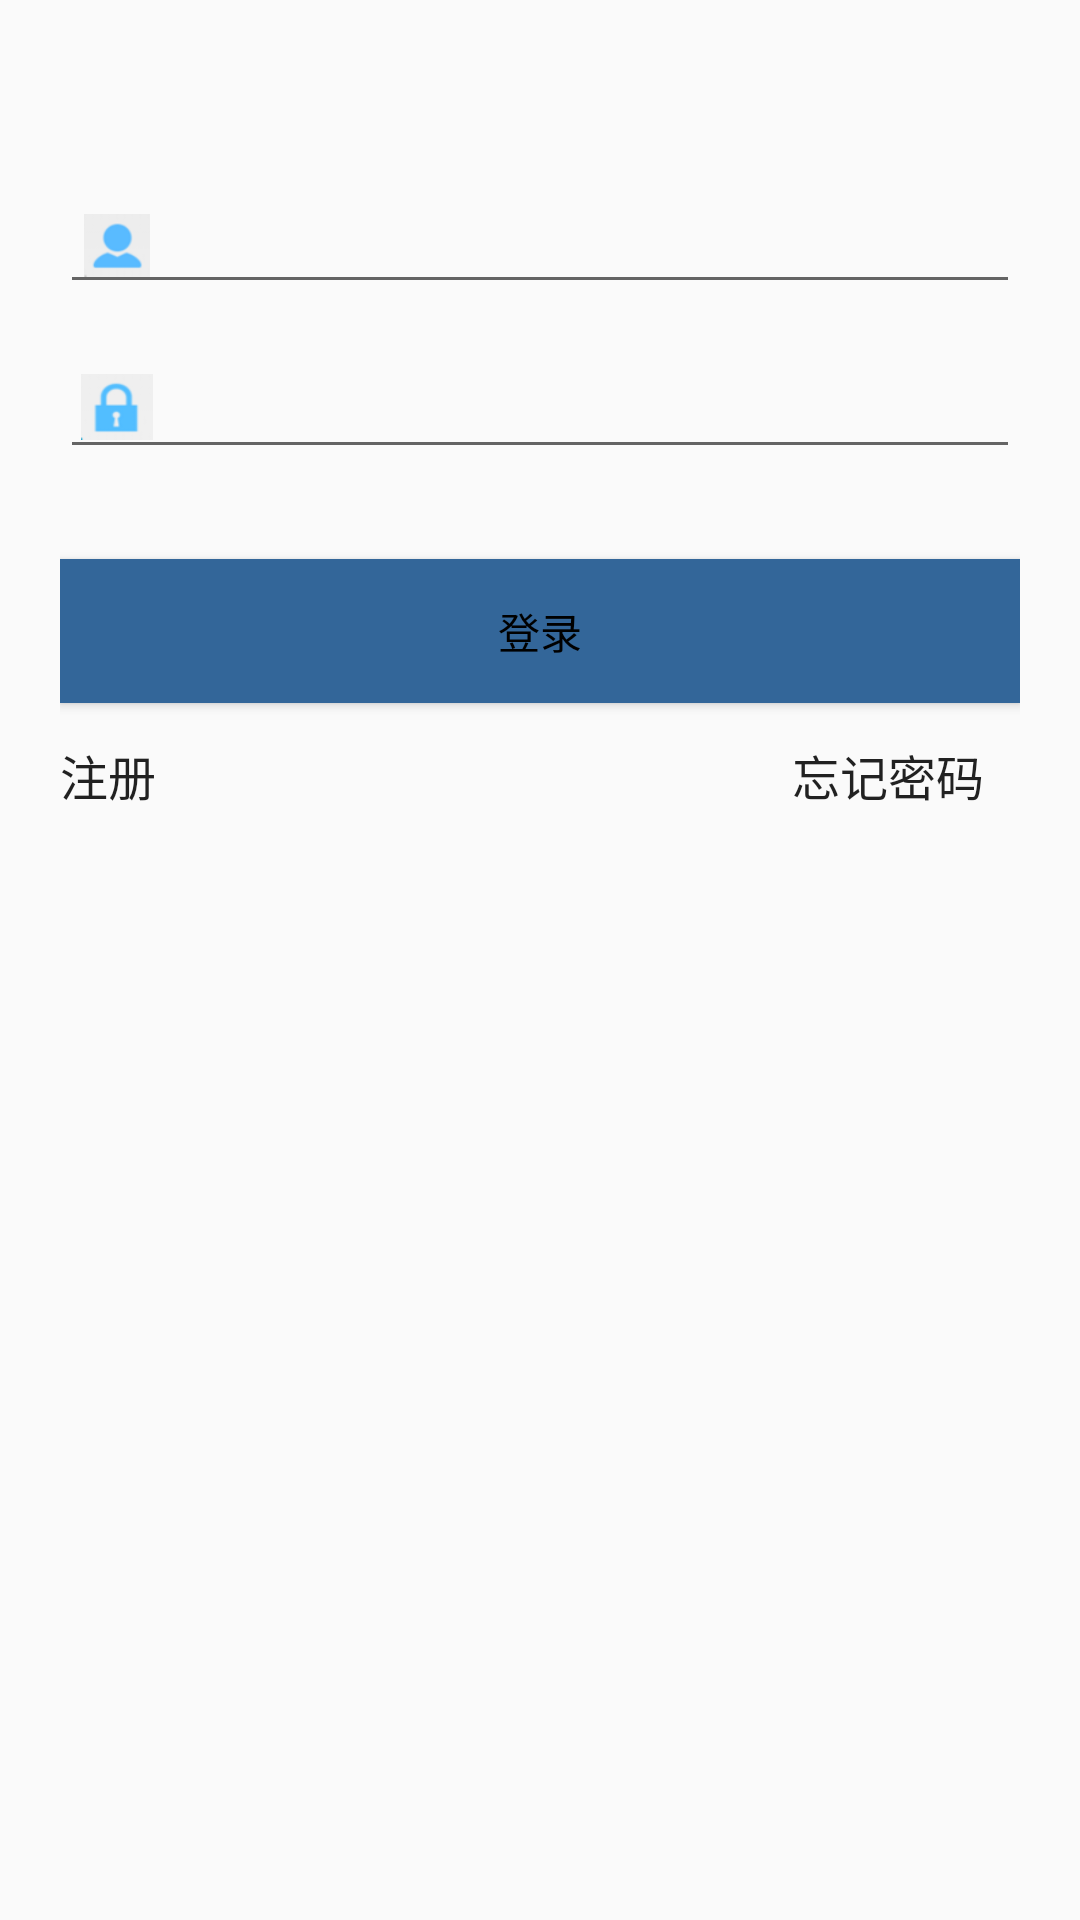

Icons on this 1080x1920 Android screen, each with the point to tap as point (x, y):
login code in: point (117, 407)
login usr in: point (117, 246)
